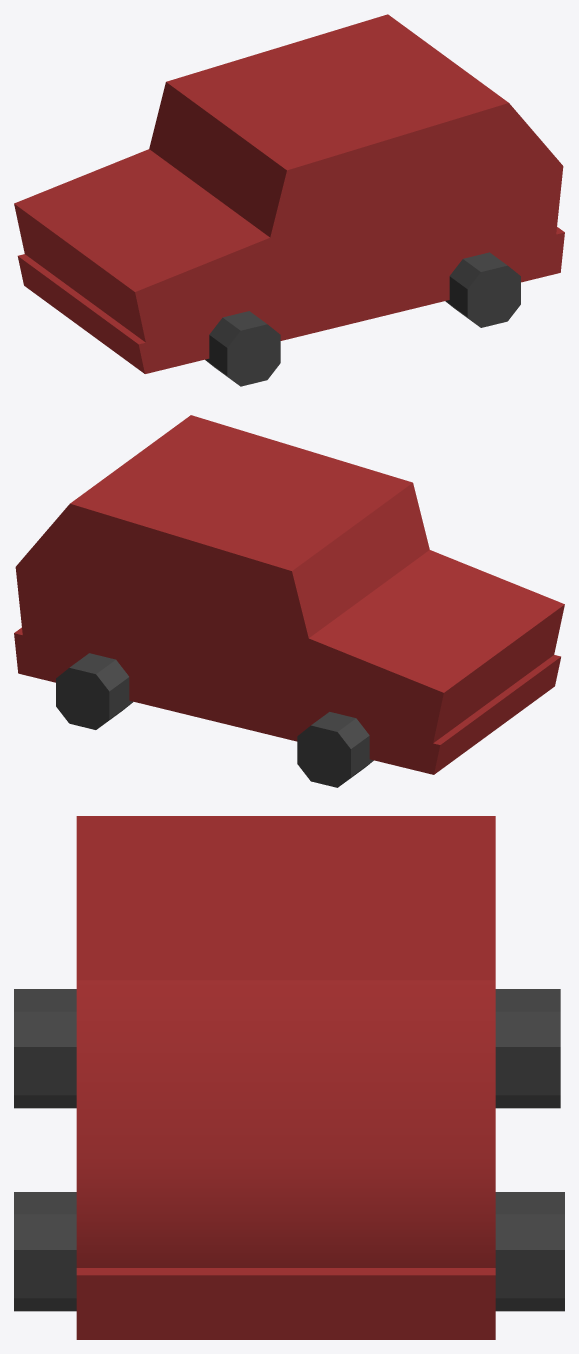
The model's file is Car.fbx.
The picture shows the model from 3 angles, top to bottom: view 1: azimuth 30°, elevation 25°; view 2: azimuth 150°, elevation 25°; view 3: azimuth 270°, elevation 25°; orthographic projection. The views are drawn at different scales.
Parts seen in each view (by area): view 1: pCube1, pasted__pCube2, pCube2; view 2: pCube1, pasted__pasted__pCube2, pasted__pCube2; view 3: pCube1, pasted__pCube2 (×2), pasted__pasted__pCube2, pCube2.
Boxes of the visible parts, <box> form: pCube1: <box>14,14,564,373</box>; pasted__pCube2: <box>445,252,520,327</box>; pCube2: <box>205,311,280,386</box>; pCube1: <box>14,415,564,774</box>; pasted__pasted__pCube2: <box>56,653,133,729</box>; pasted__pCube2: <box>297,712,373,787</box>; pCube1: <box>76,816,495,1339</box>; pasted__pCube2 (×2): <box>14,989,560,1311</box>; pasted__pasted__pCube2: <box>495,1192,564,1311</box>; pCube2: <box>14,989,76,1108</box>.
Bounding box in the file's own units: 14.23 × 6.35 × 9.13.
